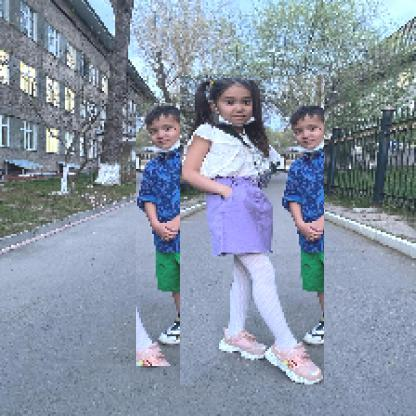child: (181, 76, 326, 388), (137, 104, 225, 368)
